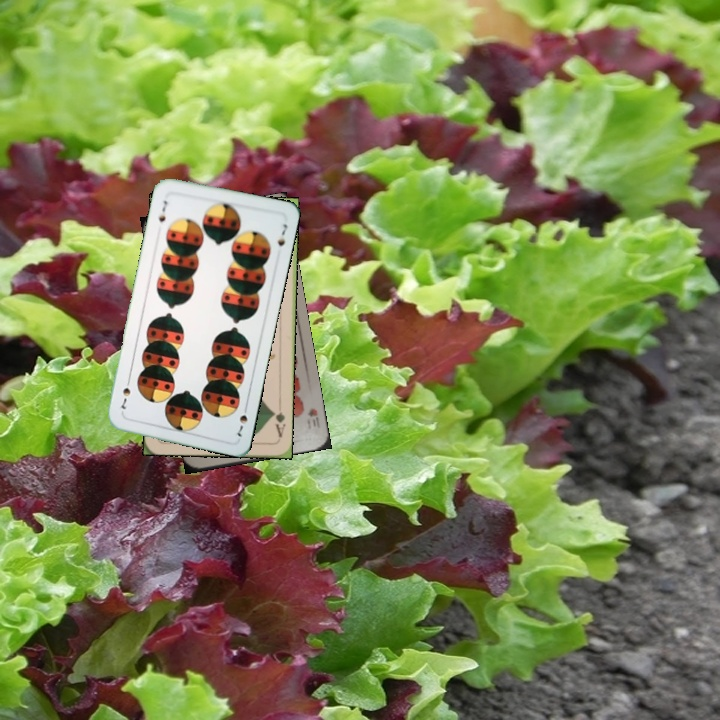GA: (268, 407, 288, 440)
H10: (303, 403, 323, 432)
S7: (233, 400, 250, 439), (154, 196, 170, 225)
